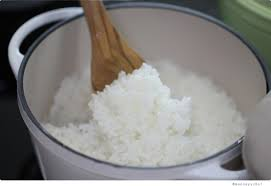ssalbab: (38, 56, 249, 168)
